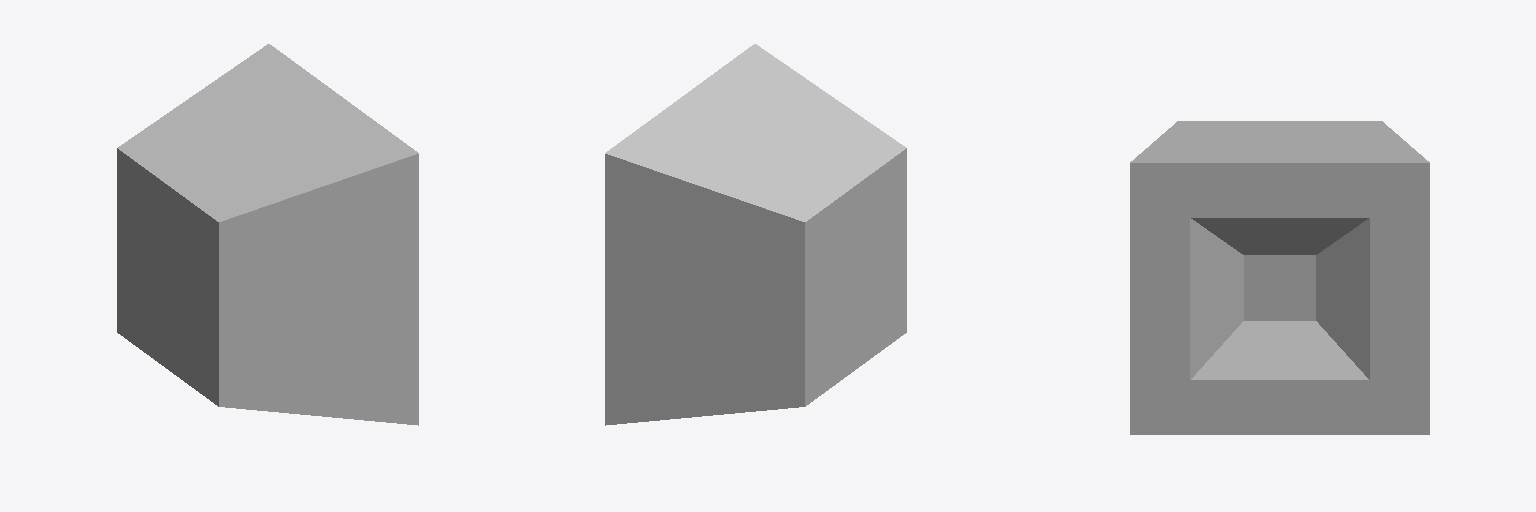
File: camara.obj
The picture shows the model from 3 angles: view 1: azimuth 30°, elevation 25°; view 2: azimuth 150°, elevation 25°; view 3: azimuth 270°, elevation 25°; orthographic projection.
Parts seen in each view (by area): view 1: Cube; view 2: Cube; view 3: Cube.
Boxes of the visible parts, x1,y1,x2,y2 form: Cube: [117, 44, 418, 425]; Cube: [605, 44, 906, 425]; Cube: [1130, 121, 1429, 434].
Bounding box in the file's own units: 0.126 × 0.186 × 0.186.